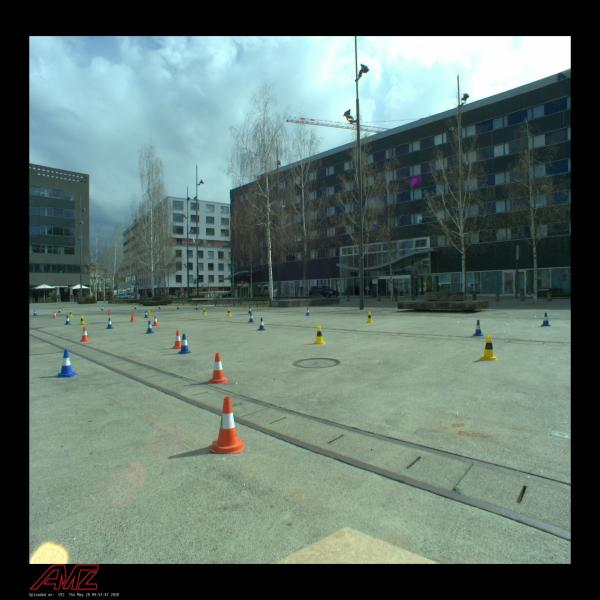blue_cone: (56, 349, 78, 378), (177, 334, 192, 354), (472, 320, 484, 336), (541, 313, 552, 326), (146, 320, 154, 334), (258, 318, 266, 331), (106, 318, 114, 329), (248, 312, 255, 322), (65, 315, 71, 325), (306, 307, 310, 316), (144, 311, 149, 318), (33, 310, 38, 316), (58, 307, 62, 313), (248, 307, 252, 313), (195, 305, 199, 310), (176, 305, 180, 310), (158, 304, 162, 309), (134, 304, 138, 309), (101, 306, 104, 310)
orange_cone: (210, 396, 244, 454), (209, 353, 228, 384), (172, 330, 184, 349), (80, 326, 91, 341), (152, 315, 159, 326), (130, 312, 136, 321), (52, 312, 57, 318), (108, 309, 112, 315)
yellow_cone: (480, 335, 498, 360), (314, 325, 325, 344), (366, 312, 373, 324), (79, 315, 86, 325), (227, 308, 232, 316), (68, 310, 74, 316), (202, 308, 207, 315), (147, 309, 152, 315)
